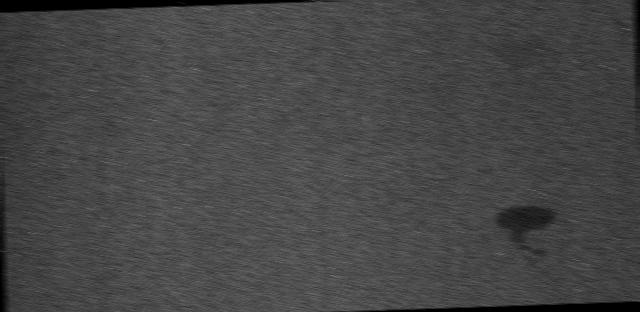oil_spot: (482, 198, 568, 273)
